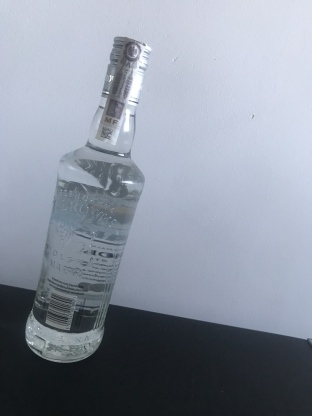nakretka: (99, 33, 153, 110)
